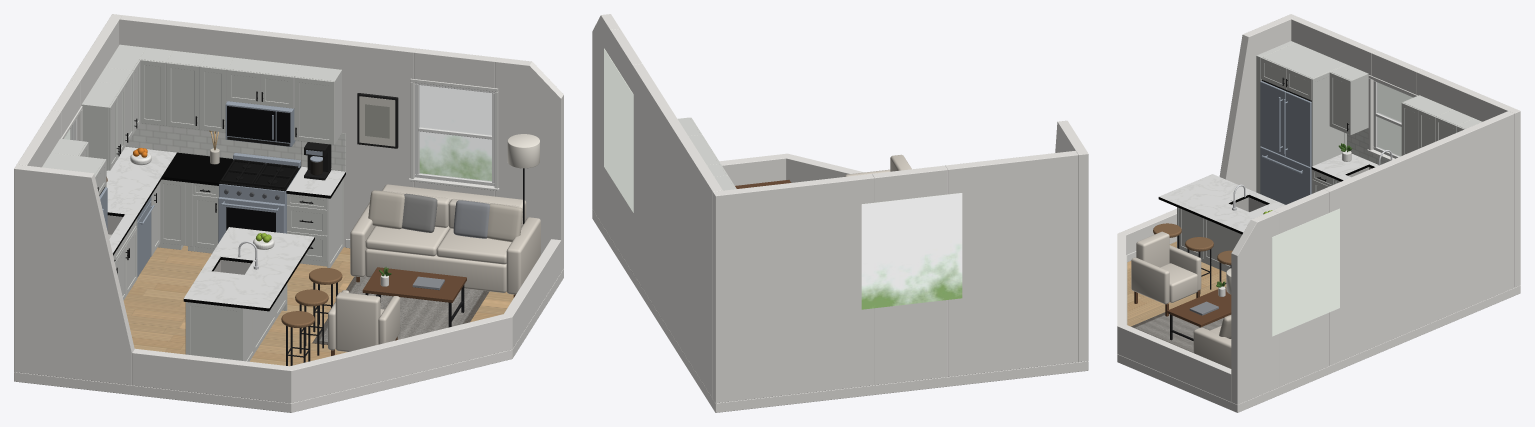
Rendered from kitchen.glb.
3 renders of one model, left to right at view 1: azimuth 30°, elevation 25°; view 2: azimuth 150°, elevation 25°; view 3: azimuth 270°, elevation 25°, orthographic. The views are drawn at different scales.
Visible parts, largest first — view 1: walls_floor_slab, sofa, floor_oak, panel_cabinet_boxes, island_countertop, countertop_quartz, windowb_glass, windowb_exteriorbackdrop, backsplash_b, armchair, rug, island_door_deco_end_R (+38 smaller); view 2: walls_floor_slab, windowa_exteriorbackdrop, windowb_exteriorbackdrop, panel_cabinet_boxes; view 3: walls_floor_slab, windowb_exteriorbackdrop, fridge_leaves, panel_cabinet_boxes, armchair, island_countertop, door_deco_A_REP84_L, floor_oak, windowa_glass, windowa_exteriorbackdrop, rug, door_A07_W1530 (+14 smaller).
Part boxes in pixels (x1,y1,x2,y2): walls_floor_slab: (14, 14, 563, 412); sofa: (350, 184, 540, 294); floor_oak: (123, 245, 513, 366); panel_cabinet_boxes: (42, 44, 341, 266); island_countertop: (183, 227, 314, 311); countertop_quartz: (106, 146, 345, 255); windowb_glass: (419, 85, 491, 181); windowb_exteriorbackdrop: (419, 85, 491, 181); backsplash_b: (126, 123, 345, 171); armchair: (328, 290, 399, 351); rug: (312, 275, 489, 344); island_door_deco_end_R: (185, 302, 243, 360); walls_floor_slab: (592, 14, 1088, 412); windowa_exteriorbackdrop: (861, 193, 962, 309); windowb_exteriorbackdrop: (604, 48, 633, 212); panel_cabinet_boxes: (678, 117, 734, 190); walls_floor_slab: (1117, 14, 1520, 412); windowb_exteriorbackdrop: (1272, 208, 1339, 336); fridge_leaves: (1260, 81, 1311, 204); panel_cabinet_boxes: (1256, 41, 1482, 193); armchair: (1131, 231, 1201, 304); island_countertop: (1158, 174, 1285, 234); door_deco_A_REP84_L: (1311, 64, 1346, 193); floor_oak: (1127, 241, 1226, 326); windowa_glass: (1377, 82, 1412, 156); windowa_exteriorbackdrop: (1378, 83, 1412, 156); rug: (1131, 312, 1223, 352); door_A07_W1530: (1329, 72, 1351, 134).
Size of the model in its own units: 6.54 by 2.57 by 5.14.
Materials: 43 (8 with a texture image).
